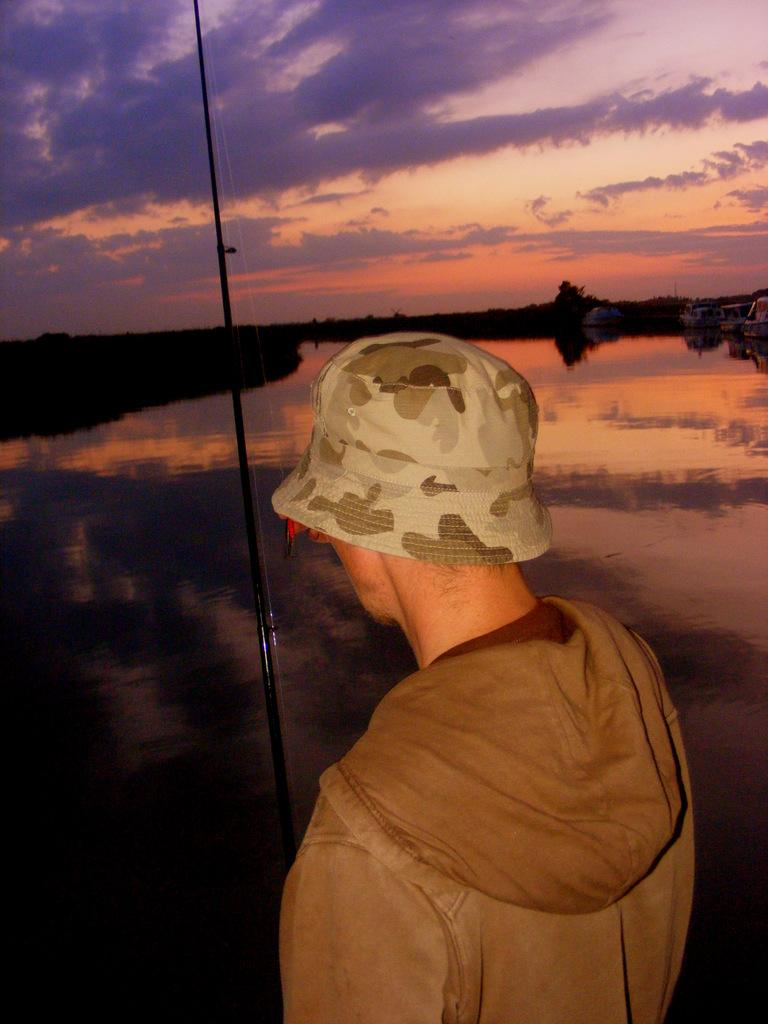Hat: (272, 334, 553, 559)
